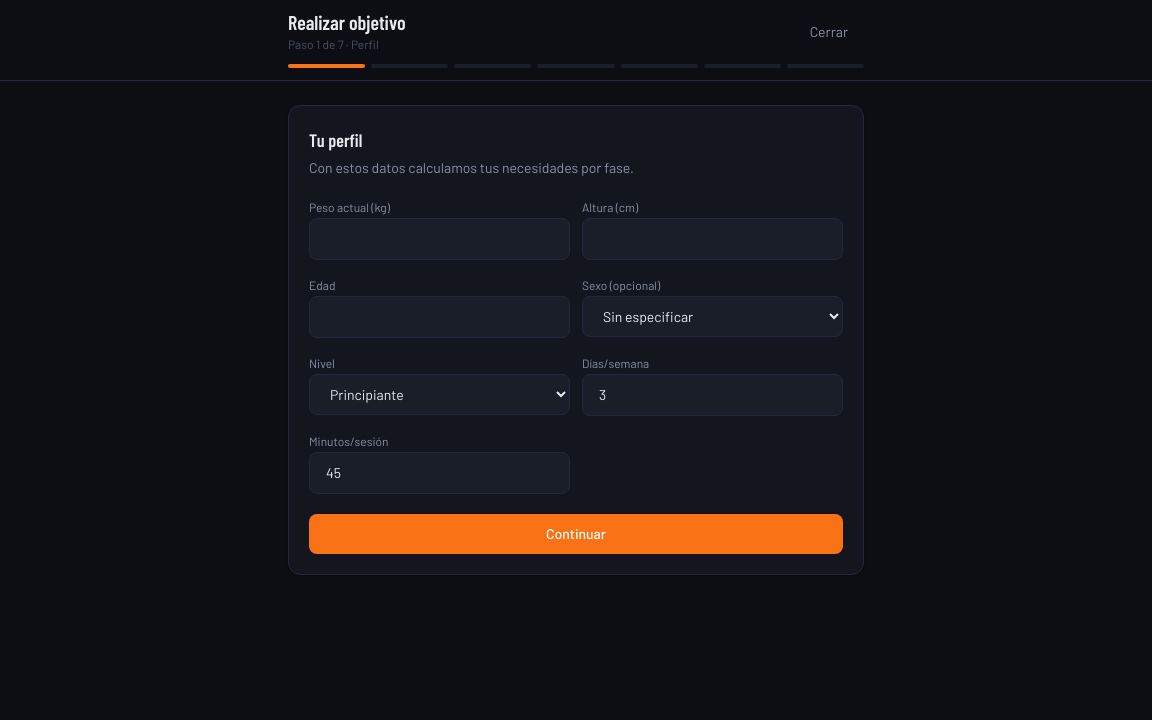
Test: ProfileStep validation (Req 2.1, 1.4) › shows the Spanish error from the API and keeps the entered values
The width and height of the screenshot is (1152, 720).
Expected: the text "Peso actual (kg)" is shown, [309,200,390,214]
Type "20" into the number field below "Peso actual (kg)" at (440,239), box [309,218,570,260]
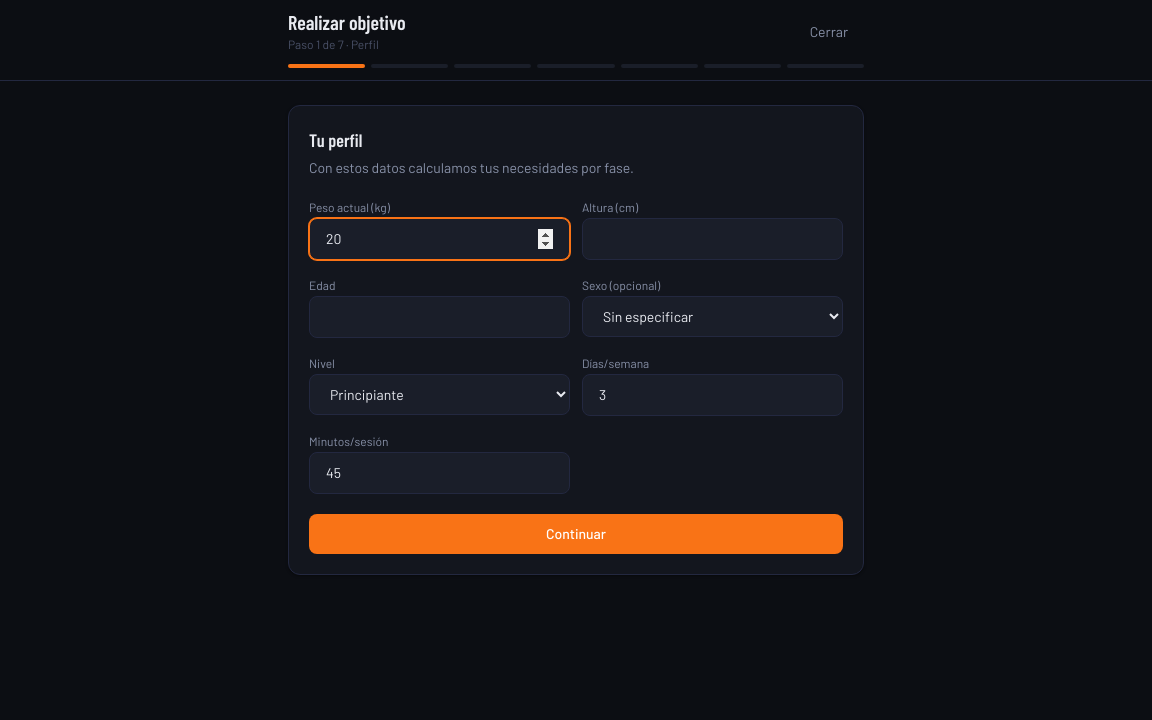
Type "175" into the number field below "Altura (cm)" at (712,239), box [582,218,843,260]
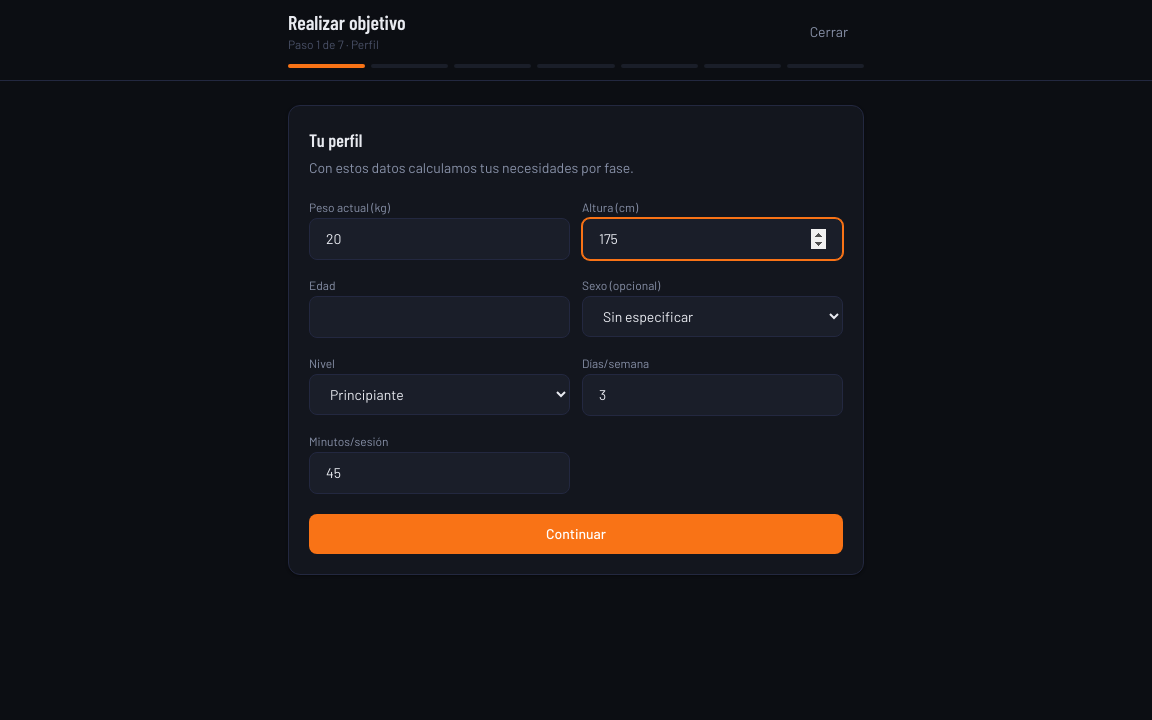
Type "30" into the number field below "Edad" at (440,317), box [309,296,570,338]
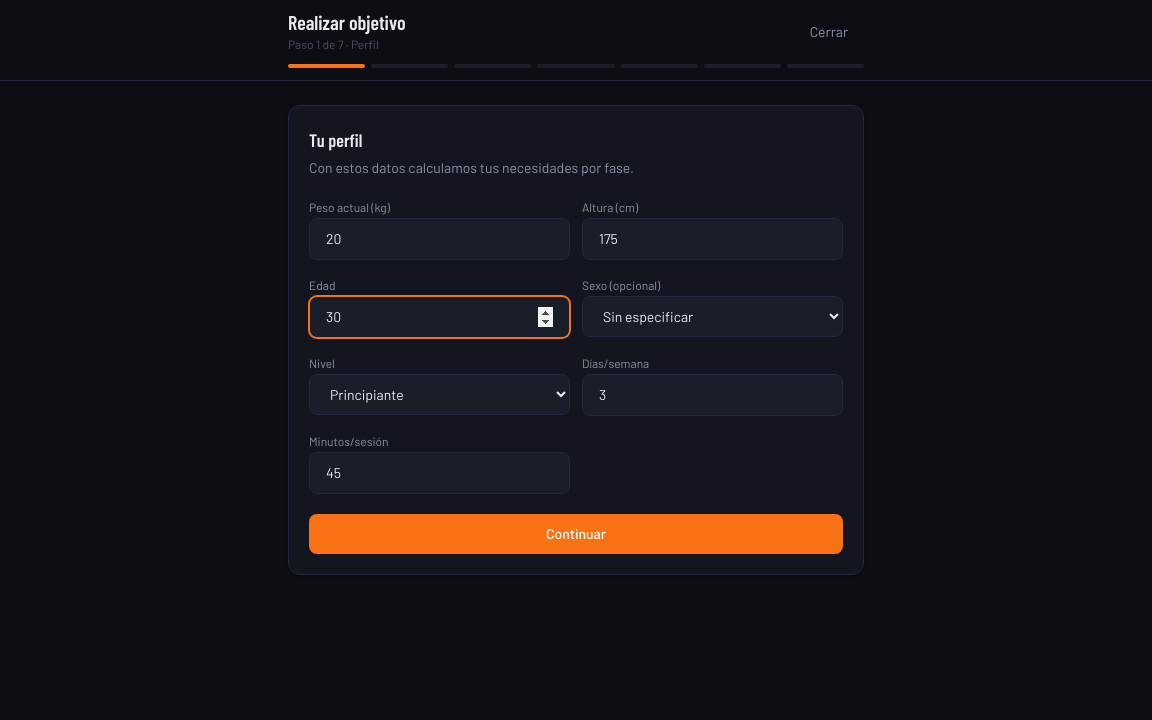
Click the button "Continuar" at (576,534), box [309,514,843,554]
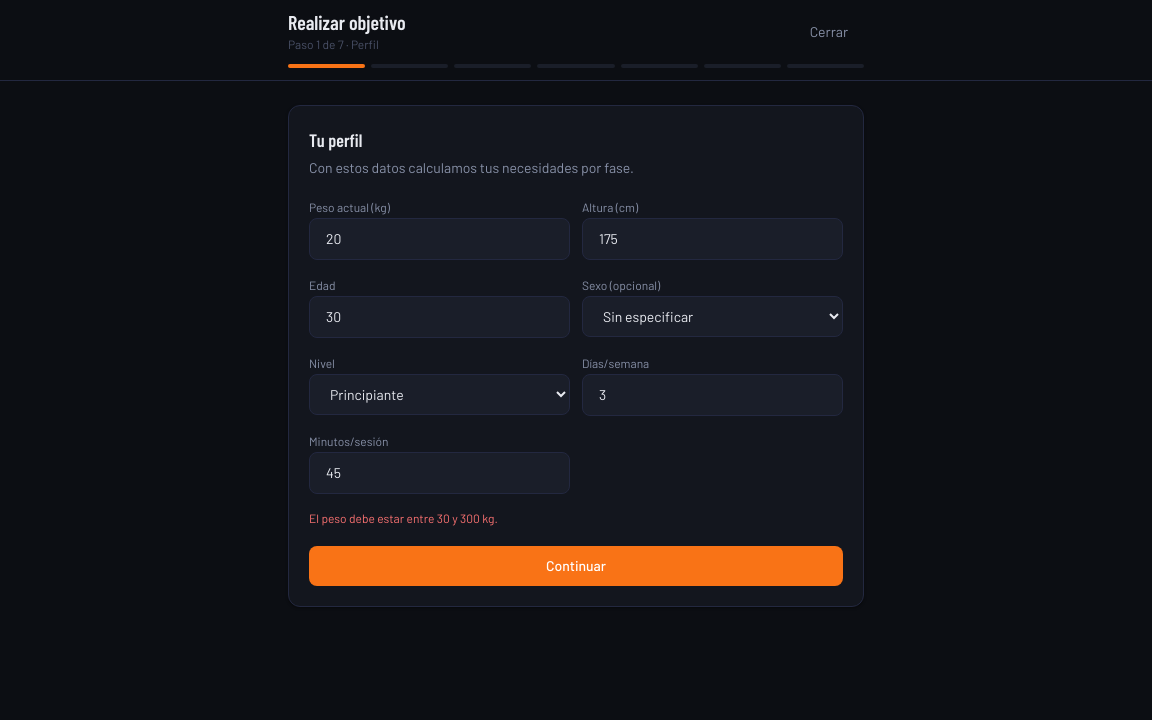
Now the text "El peso debe estar entre 30 y 300 kg." is shown, box [309,511,498,525]
